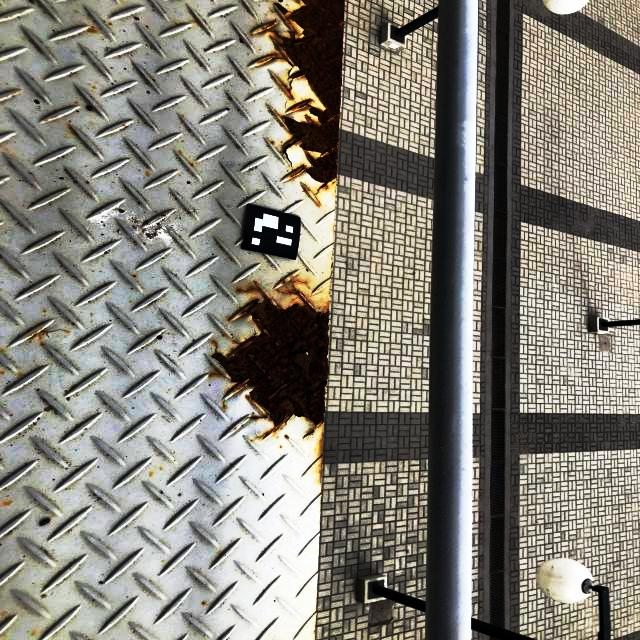Corrosion: (210, 279, 329, 438), (259, 0, 345, 191), (29, 328, 70, 340), (318, 431, 324, 487), (302, 182, 312, 192), (315, 196, 322, 207), (210, 373, 223, 378), (88, 28, 97, 33), (223, 398, 226, 410), (5, 616, 12, 621), (189, 162, 194, 167), (40, 343, 45, 347), (284, 434, 288, 438), (202, 601, 205, 604), (280, 446, 282, 448)
